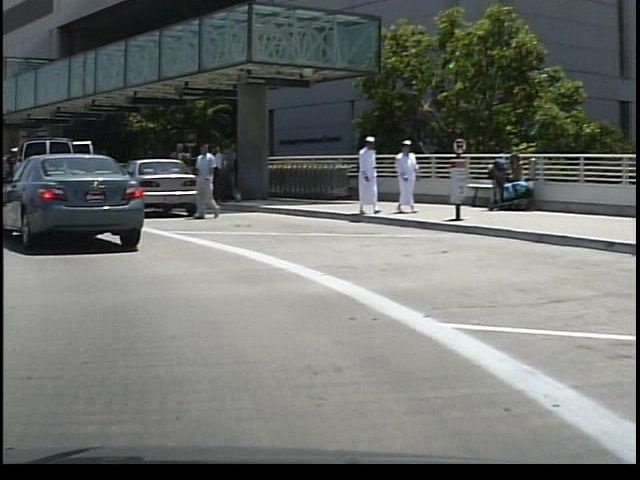person: (188, 136, 222, 227), (389, 133, 421, 217), (349, 132, 377, 220)
